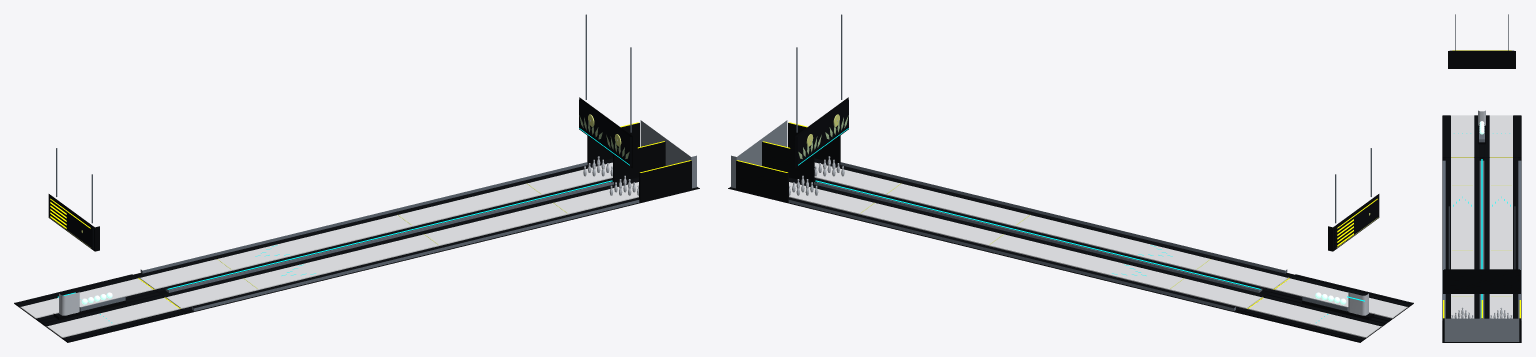
Rendered from tt_bowl_lane_pair.glb.
3 renders of one model, left to right at view 1: azimuth 30°, elevation 25°; view 2: azimuth 150°, elevation 25°; view 3: azimuth 270°, elevation 25°, orthographic. The views are drawn at different scales.
Parts seen in each view (by area): view 1: Lane_Surface, Gutters, Capping, Kickbacks, Lane_Approach, Masking_Face, Lane_Bed, Pit_Curtain, Score_Plate, Capping_Reveal, Approach_Edge, Pins; view 2: Lane_Surface, Gutters, Capping, Kickbacks, Lane_Approach, Masking_Face, Lane_Bed, Pit_Curtain, Score_Plate, Capping_Reveal, Approach_Edge, Pins; view 3: Lane_Surface, Gutters, Lane_Approach, Capping, Masking_Frame, Pit_Curtain, Lane_Bed, Score_Housing, Approach_Edge, Pins, Masking_Hangers, Capping_Reveal (+5 smaller).
Boxes of the visible parts, x1,y1,x2,y2 form: Lane_Surface: (139,162,638,308); Gutters: (16,159,638,340); Capping: (140,162,639,311); Kickbacks: (587,123,691,202); Lane_Approach: (20,278,180,337); Masking_Face: (579,100,631,166); Lane_Bed: (14,158,699,342); Pit_Curtain: (640,120,696,188); Score_Plate: (48,197,93,249); Capping_Reveal: (167,180,612,289); Approach_Edge: (14,274,185,341); Pins: (583,156,638,195); Lane_Surface: (789,162,1288,308); Gutters: (789,159,1411,340); Capping: (788,162,1287,311); Kickbacks: (736,123,840,202); Lane_Approach: (1247,278,1407,337); Masking_Face: (796,100,848,166); Lane_Bed: (728,158,1413,342); Pit_Curtain: (731,120,787,188); Score_Plate: (1334,197,1379,249); Capping_Reveal: (815,180,1260,289); Approach_Edge: (1242,274,1413,341); Pins: (789,156,844,195); Lane_Surface: (1451,158,1512,318); Gutters: (1445,115,1518,318); Lane_Approach: (1451,115,1512,157); Capping: (1442,160,1521,320); Masking_Frame: (1443,270,1520,293); Pit_Curtain: (1444,318,1519,341); Lane_Bed: (1442,116,1521,342); Score_Housing: (1448,51,1515,68); Approach_Edge: (1442,115,1521,157); Pins: (1451,307,1512,318); Masking_Hangers: (1448,206,1515,269); Capping_Reveal: (1481,159,1482,317).
Size of what is drawn, in the model's own units: 24.5 by 5.71 by 3.6.
11 materials, 4 textured.
